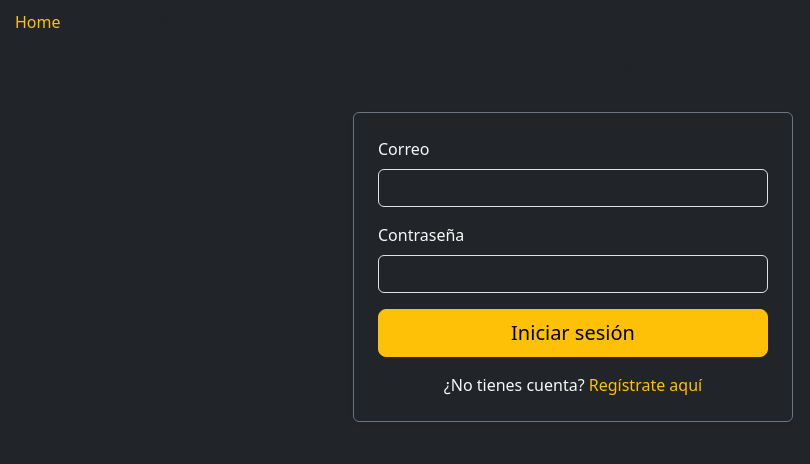
Test: Login - validaciones del formulario › rechaza un correo con formato inválido
Type "correo-sin-arroba" into the field labelled "Correo" at [573, 188], box 378,169 -> 768,207
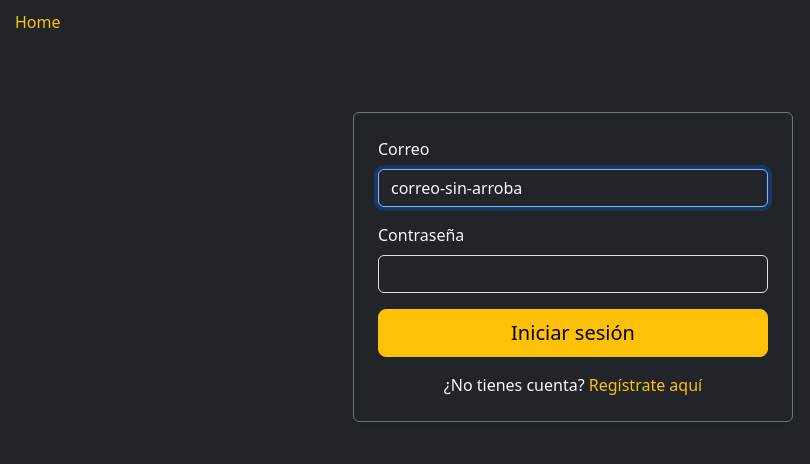
Type "clave123" into the password field labelled "Contraseña" at [573, 274], box 378,255 -> 768,293
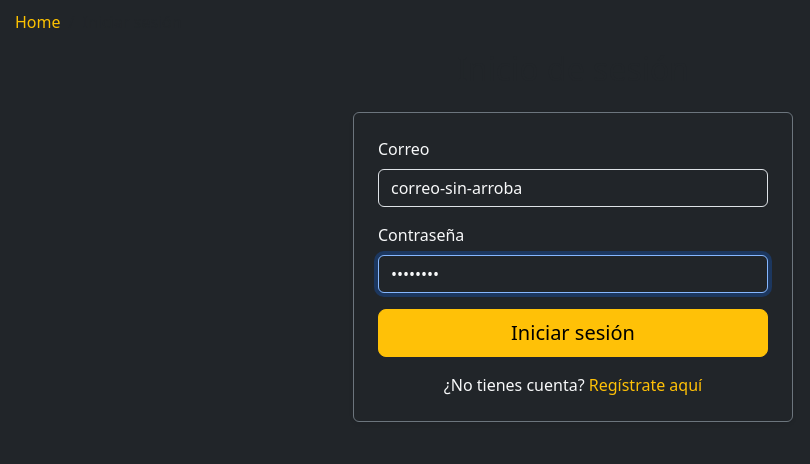
Click the button "Iniciar sesión" at [573, 333], box 378,309 -> 768,357
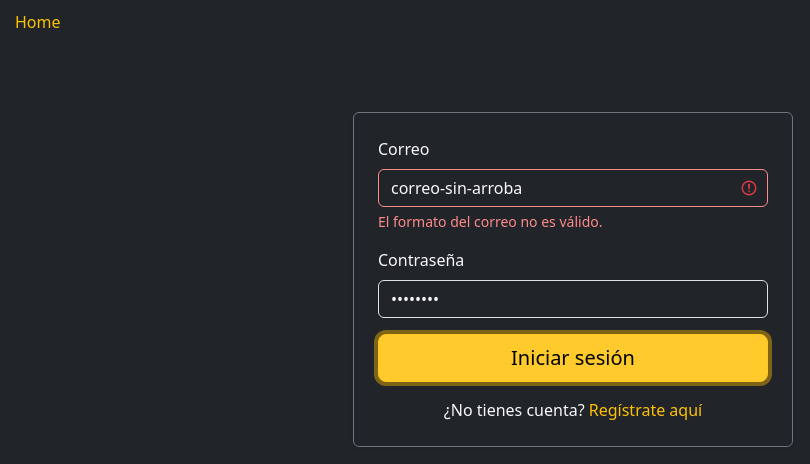
expect the text "El formato del correo no es válido." is shown: met, box 378,212 -> 602,231
